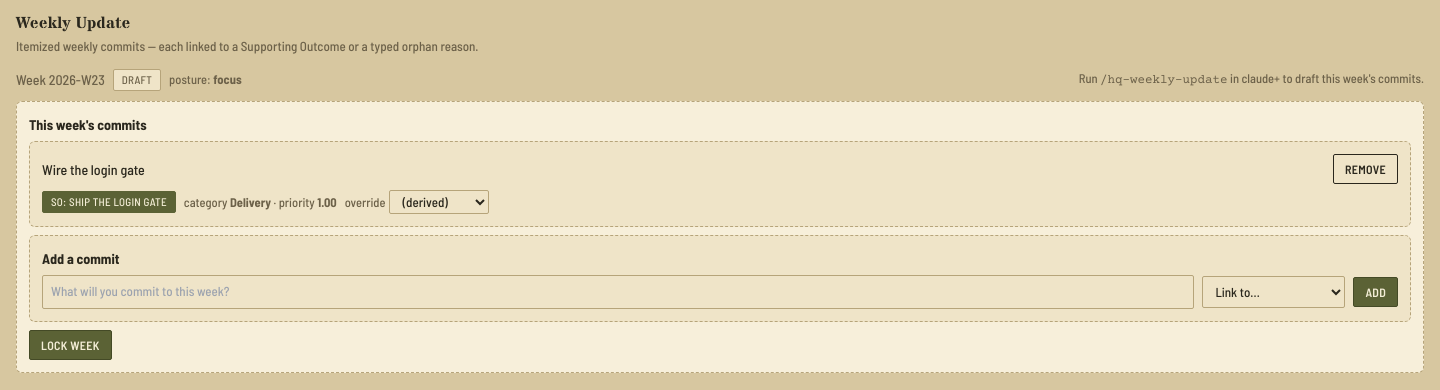
Test case: ProjectWeekly — DRAFT editor (U10) › shows the override flag when the chosen category contradicts the derived one
Expected: the text "Wire the login gate" is shown, [42, 160, 145, 178]
Select "Strategic" in the dropdown with test id "commit-override-c1". click: (440, 202)
box: [390, 190, 490, 214]
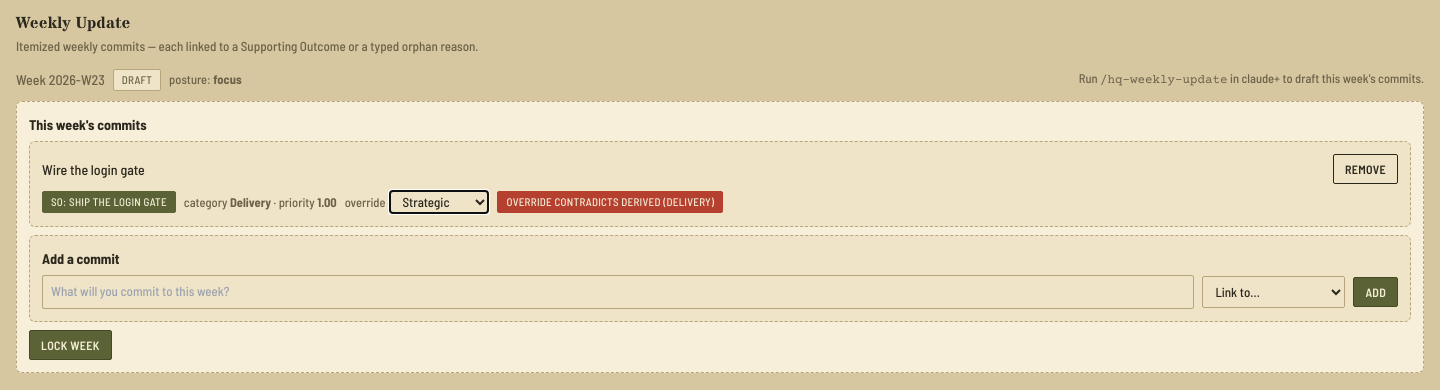
Expected: the text "override contradicts derived (Delivery)" is shown, [506, 195, 714, 208]
Selecting the derived value back clears the flag (override that AGREES isn't flagged).
Select "Delivery" in the dropdown with test id "commit-override-c1". click: (440, 202)
box: [390, 190, 490, 214]
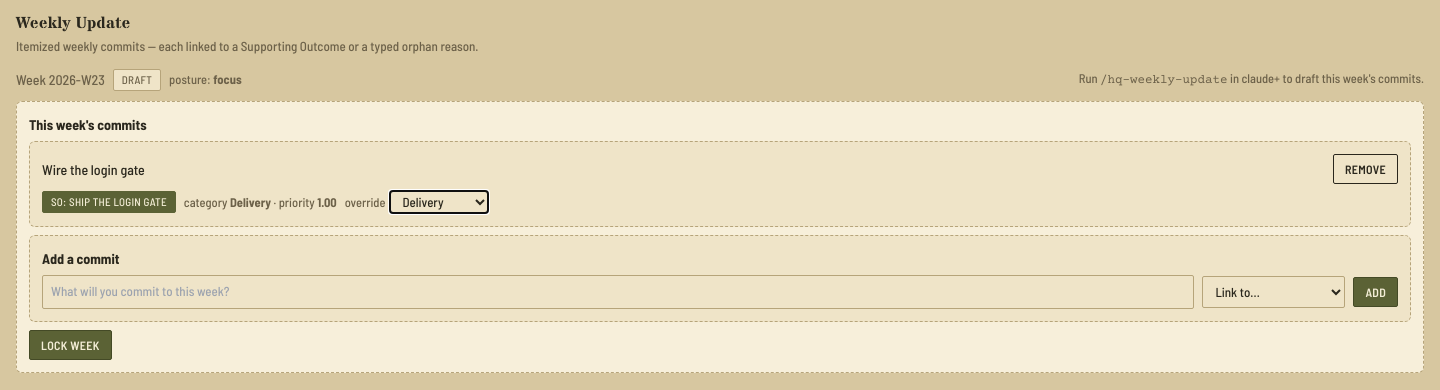
Expected: the text with test id "commit-override-flag-c1" is gone
